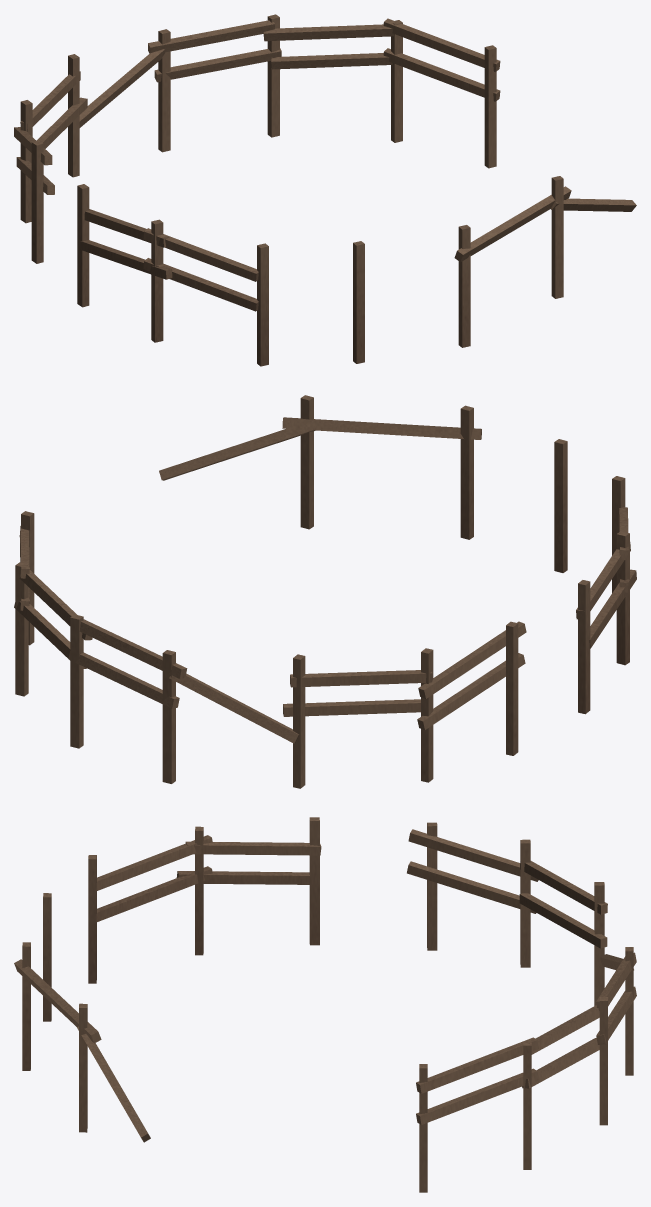
File: fence.obj
3 renders of one model, top to bottom at view 1: azimuth 30°, elevation 25°; view 2: azimuth 150°, elevation 25°; view 3: azimuth 270°, elevation 25°, orthographic. The views are drawn at different scales.
Parts seen in each view (by area): view 1: Cube.018_Cube.068; view 2: Cube.018_Cube.068; view 3: Cube.018_Cube.068.
Part boxes in pixels (x1,y1,x2,y2): Cube.018_Cube.068: (14,14,636,366); Cube.018_Cube.068: (14,395,636,788); Cube.018_Cube.068: (14,817,636,1192).
Bounding box in the file's own units: 8.4 × 2.19 × 9.08.
Materials: 1 (1 with a texture image).
